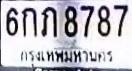6: (5, 6, 17, 35)
7: (113, 4, 127, 36), (80, 4, 93, 36)
8: (97, 4, 110, 36), (64, 5, 77, 36)
A01: (21, 6, 36, 36)
A32: (40, 6, 56, 36)
BKK: (18, 47, 114, 67)
